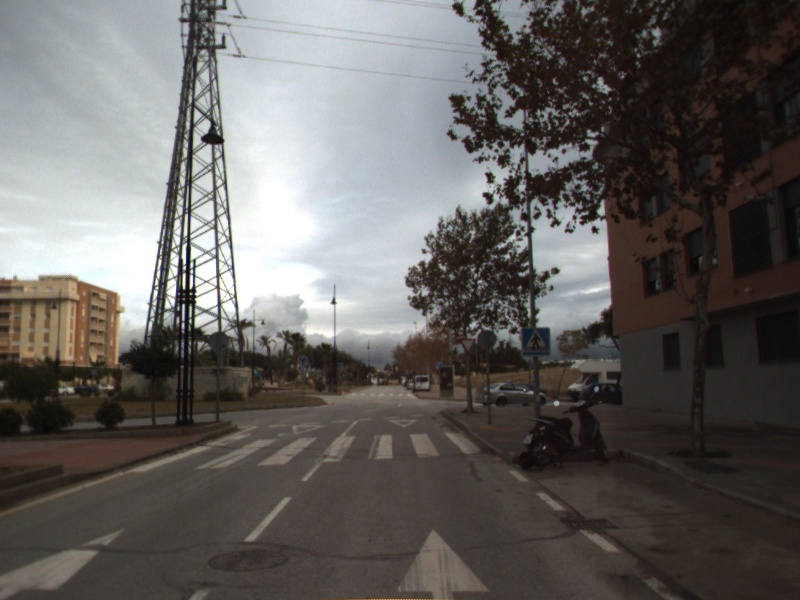STRAIGHT: (1, 525, 129, 600), (394, 526, 493, 600)
